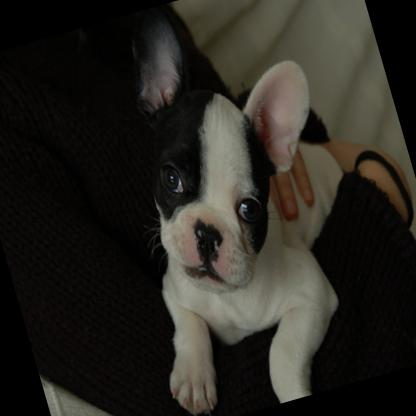French_bulldog: (68, 0, 399, 416)
